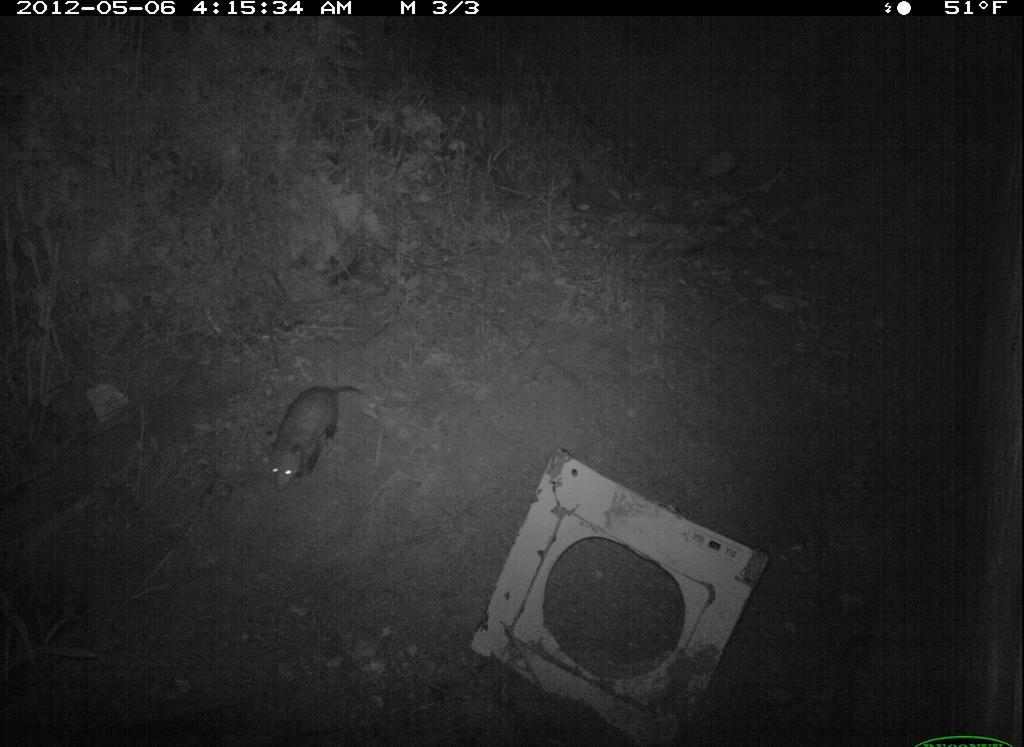opossum: (244, 376, 379, 497)
